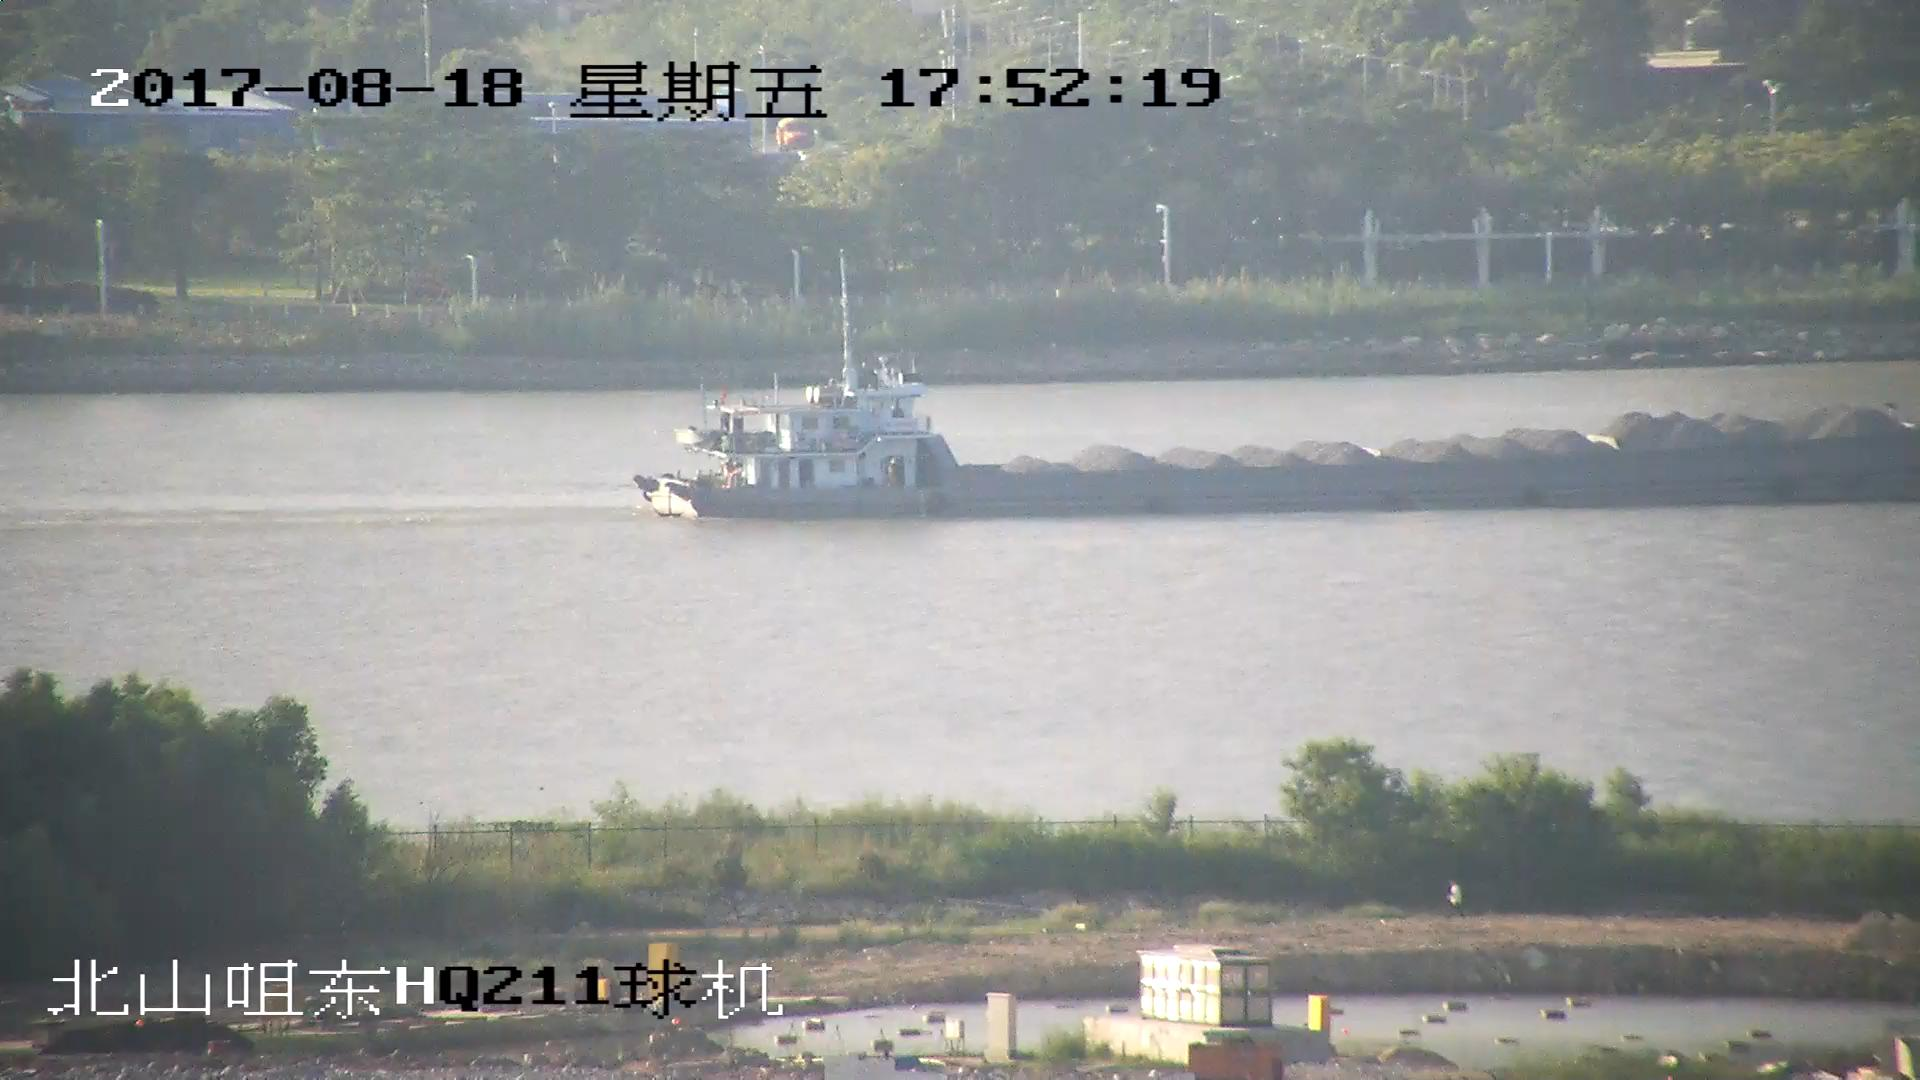ore carrier: (629, 285, 1920, 521)
